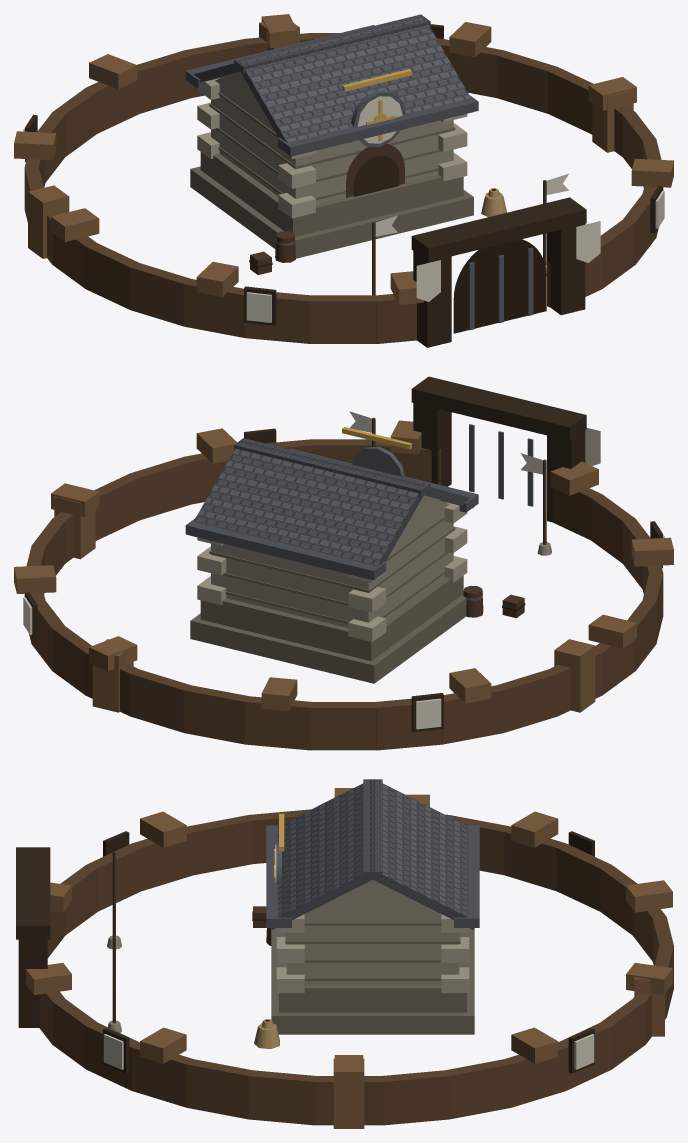
Rendered from town-shield-L1.glb.
3 renders of one model, top to bottom at view 1: azimuth 30°, elevation 25°; view 2: azimuth 150°, elevation 25°; view 3: azimuth 270°, elevation 25°, orthographic.
Visible parts, largest first — view 1: building-shield-L1, object 8, object 9, object 10, object 12, object 11, object 2, object 13, object 7, object 5; view 2: building-shield-L1, object 8, object 9, object 10, object 11, object 2, object 13, object 7; view 3: building-shield-L1, object 8, object 9, object 10, object 11, object 2, object 5.
Boxes of the visible parts, <box> form: building-shield-L1: <box>185,14,478,258</box>; object 8: <box>24,33,663,343</box>; object 9: <box>14,14,673,304</box>; object 10: <box>25,24,662,347</box>; object 12: <box>453,239,546,333</box>; object 11: <box>23,120,664,322</box>; object 2: <box>250,180,546,295</box>; object 13: <box>469,247,533,330</box>; object 7: <box>375,173,568,236</box>; object 5: <box>481,188,507,217</box>; building-shield-L1: <box>185,427,478,683</box>; object 8: <box>24,439,663,750</box>; object 9: <box>14,420,673,712</box>; object 10: <box>25,376,662,732</box>; object 11: <box>23,428,664,729</box>; object 2: <box>372,417,546,618</box>; object 13: <box>469,424,533,506</box>; object 7: <box>349,411,542,474</box>; building-shield-L1: <box>266,779,479,1034</box>; object 8: <box>39,809,673,1125</box>; object 9: <box>26,788,672,1128</box>; object 10: <box>16,831,594,1073</box>; object 11: <box>103,1034,594,1069</box>; object 2: <box>112,851,271,1023</box>; object 5: <box>254,1019,279,1049</box>.
Size of the model in its own units: 7.02 by 1.89 by 6.89.
14 materials, 1 textured.
